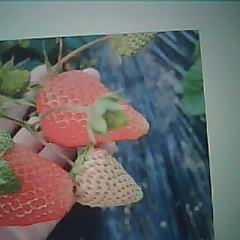straw-ripe: (38, 71, 149, 144), (0, 144, 72, 226)
straw-unripe: (70, 146, 144, 208)
